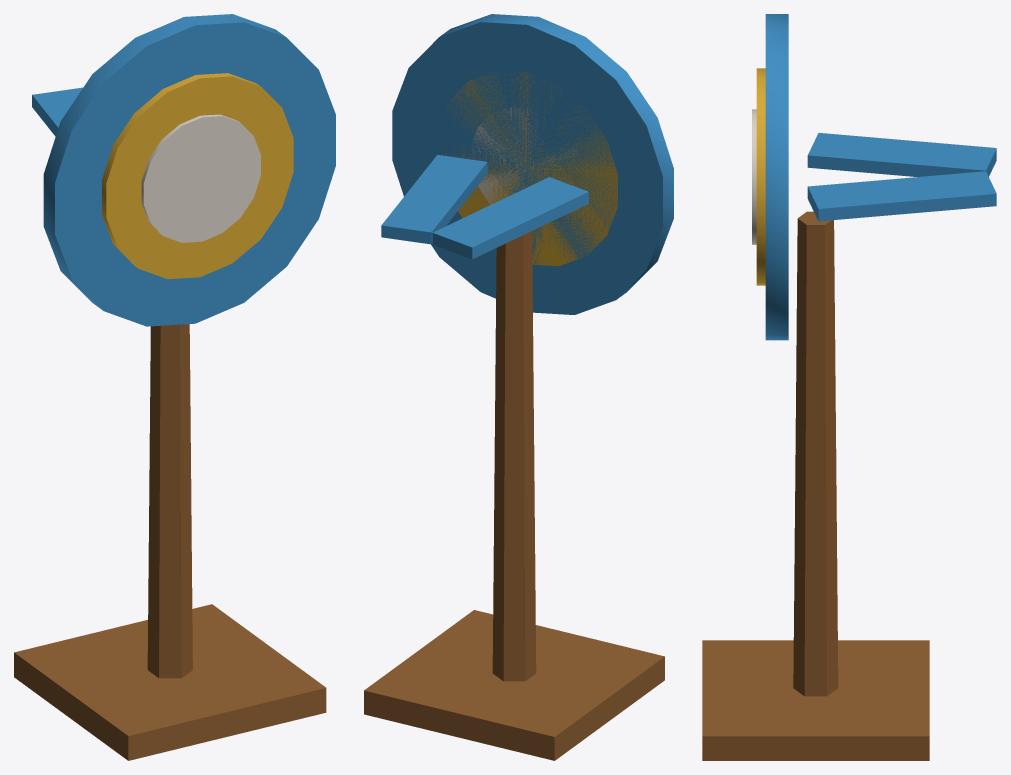
File: ribbon_rosette.glb
3 views of the same model, side by side, from view 1: azimuth 30°, elevation 25°; view 2: azimuth 150°, elevation 25°; view 3: azimuth 270°, elevation 25° (orthographic). The views are drawn at different scales.
Parts seen in each view (by area): view 1: decor-ribbon_rosette; view 2: decor-ribbon_rosette; view 3: decor-ribbon_rosette.
Part boxes in pixels (x1,y1,x2,y2): decor-ribbon_rosette: [14, 14, 335, 760]; decor-ribbon_rosette: [364, 14, 673, 760]; decor-ribbon_rosette: [702, 14, 996, 760].
Bounding box in the file's own units: 0.7091 × 1.66 × 0.6479.
